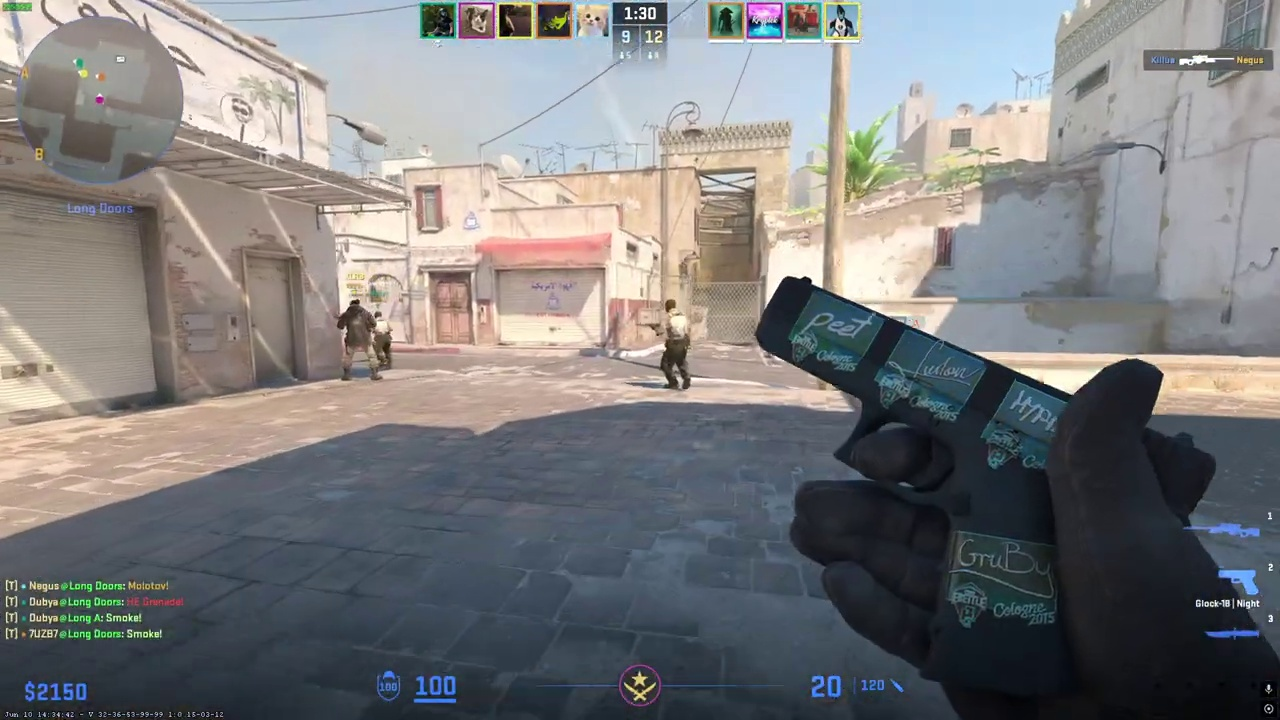Terrorist: (337, 299, 378, 381), (657, 299, 691, 389), (372, 311, 393, 368)
